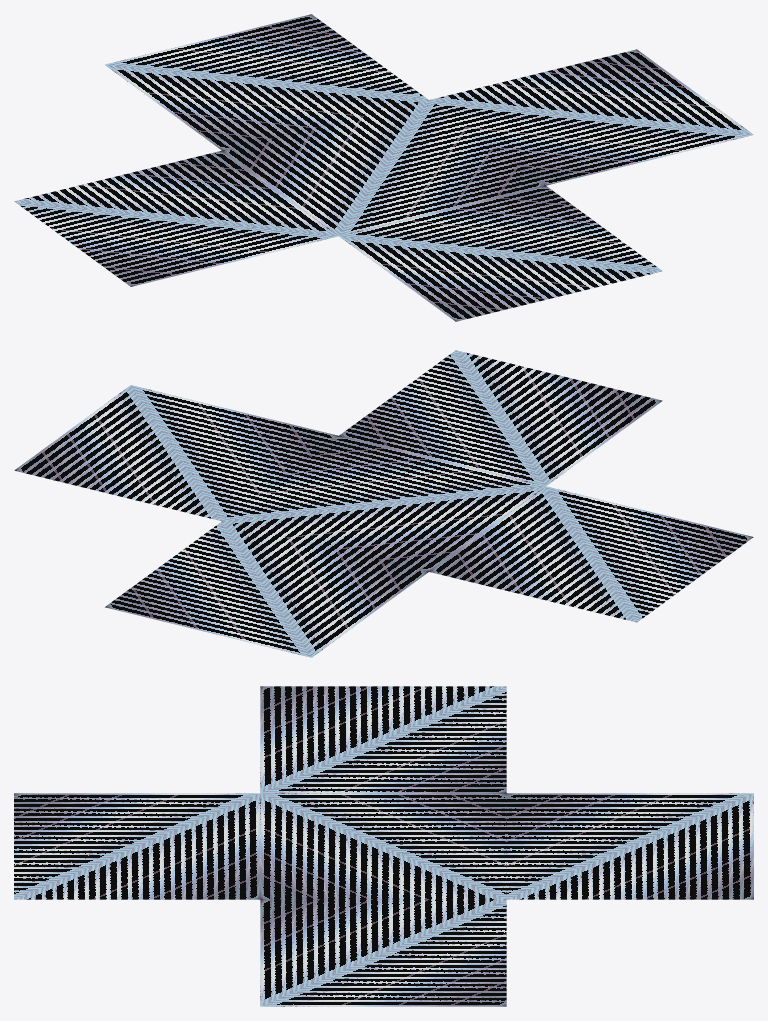
Rendered from PelagicIIExploration_Alpha_126.glb.
3 views of the same model, one above another, from view 1: azimuth 30°, elevation 25°; view 2: azimuth 150°, elevation 25°; view 3: azimuth 270°, elevation 25° (orthographic). The views are drawn at different scales.
Visible parts, largest first — view 1: PelagicIIExploration_Alpha_126; view 2: PelagicIIExploration_Alpha_126; view 3: PelagicIIExploration_Alpha_126.
Part boxes in pixels (box(x1,y1,x2,y2)): PelagicIIExploration_Alpha_126: box(14, 14, 753, 321); PelagicIIExploration_Alpha_126: box(14, 350, 753, 657); PelagicIIExploration_Alpha_126: box(14, 686, 753, 1006).
Size of the model in its own units: 101 by 2.84e-14 by 98.75.
1 material, 1 textured.
